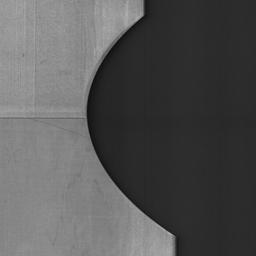Crescent gap: (86, 17, 173, 234)
